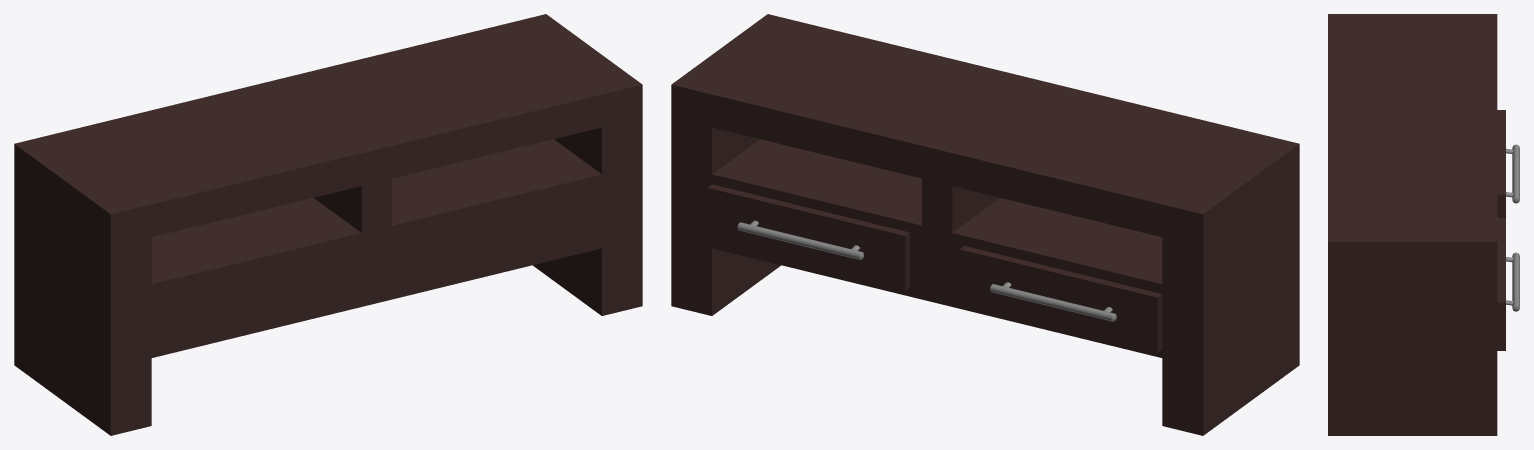
The model's file is MeubleTV_3.fbx.
3 renders of one model, left to right at view 1: azimuth 30°, elevation 25°; view 2: azimuth 150°, elevation 25°; view 3: azimuth 270°, elevation 25°, orthographic. The views are drawn at different scales.
Visible parts, largest first — view 1: pCube2453; view 2: pCube2453, pCube2455, pCube2454, pCylinder1565, pCylinder1700; view 3: pCube2453, pCube2454, pCube2455, pCylinder1565, pCylinder1700.
Part boxes in pixels (bbox=[...]): pCube2453: bbox=[14, 14, 642, 435]; pCube2453: bbox=[671, 14, 1299, 435]; pCube2455: bbox=[959, 246, 1162, 352]; pCube2454: bbox=[707, 184, 909, 290]; pCylinder1565: bbox=[990, 284, 1116, 321]; pCylinder1700: bbox=[737, 222, 863, 260]; pCube2453: bbox=[1328, 14, 1497, 435]; pCube2454: bbox=[1497, 218, 1505, 350]; pCube2455: bbox=[1497, 110, 1505, 217]; pCylinder1565: bbox=[1512, 144, 1519, 203]; pCylinder1700: bbox=[1512, 252, 1519, 311].
Size of the model in its own units: 86.34 by 34.37 by 30.74.
